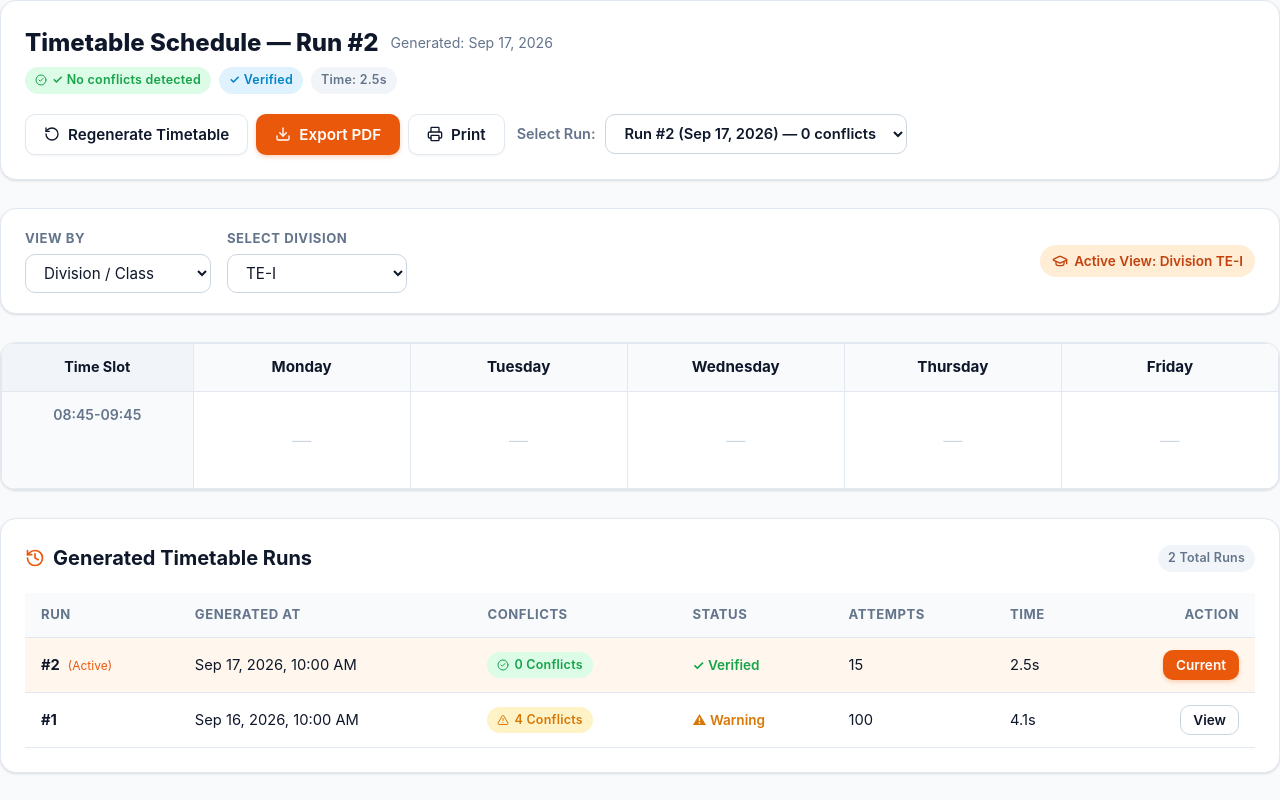
Test case: Redesigned Timetable Viewer Component › 20. Displays error when Export PDF clicked on empty entries
The image size is (1280, 800).
Expected: the element with test id "timetable-matrix-grid" is shown, left=0, top=342, right=1279, bottom=490
Click the button with test id "export-pdf-btn" at (328, 134), box left=256, top=114, right=400, bottom=155
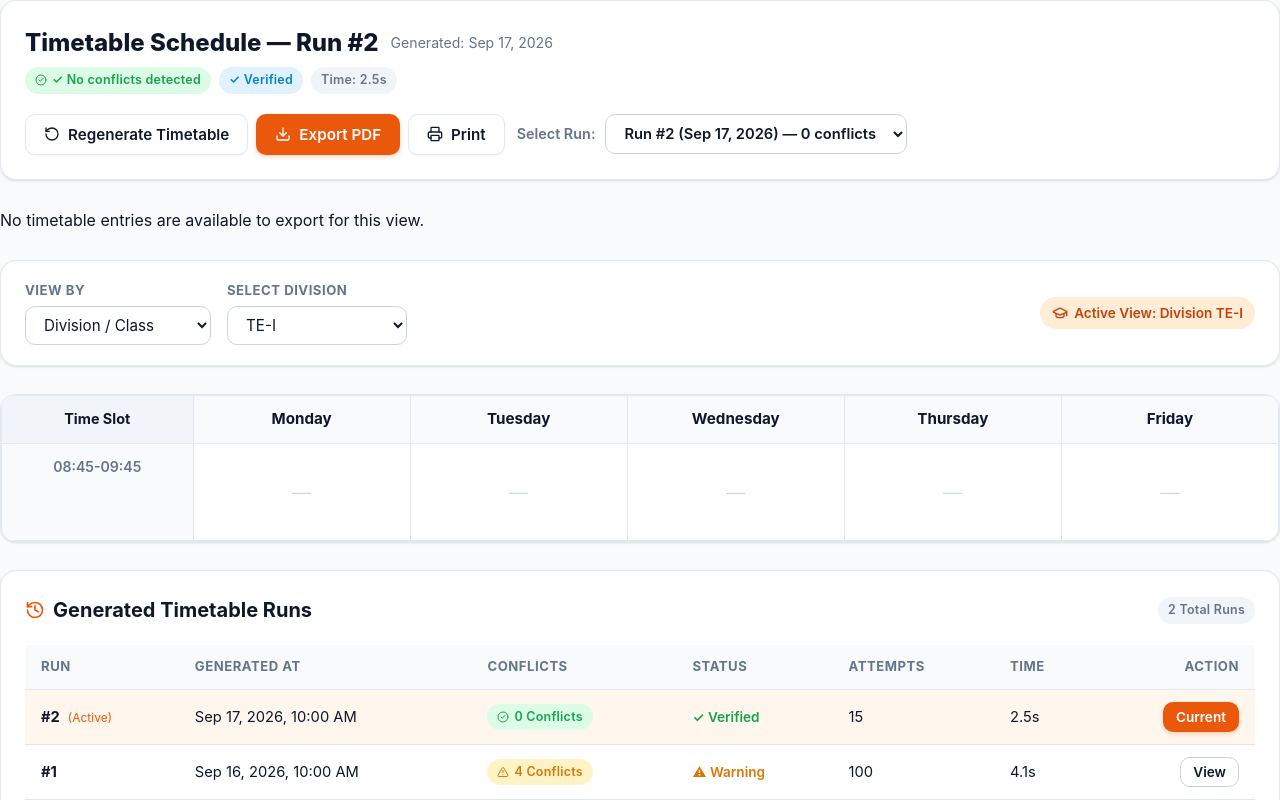
Result: the text "No timetable entries are available to export for this view." is shown at left=0, top=210, right=424, bottom=230
